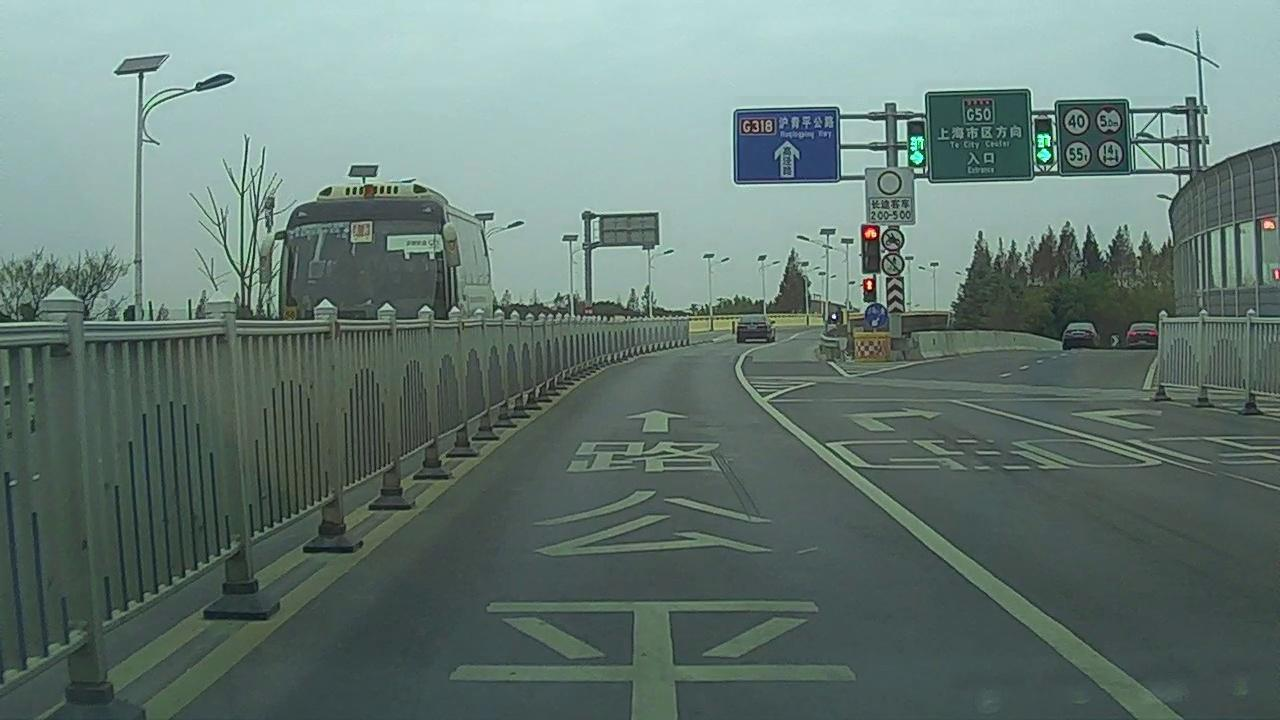traffic_light: (909, 121, 927, 169), (1037, 119, 1052, 164)
